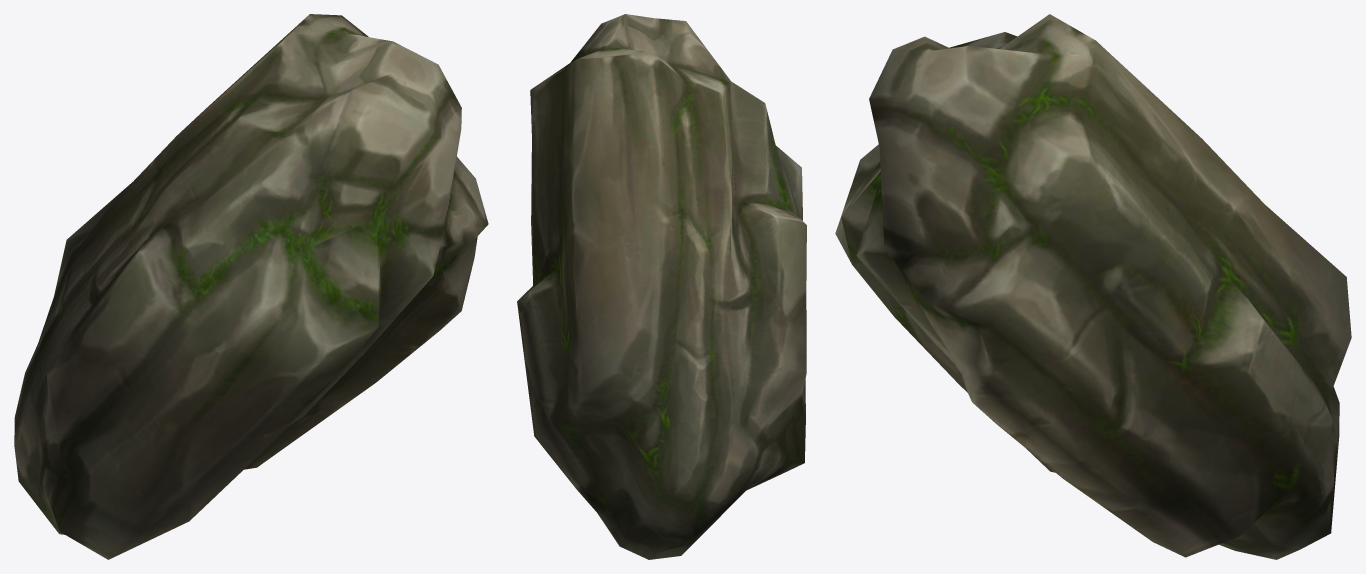
The model's file is RockFormation_4_2 (16).fbx.
The picture shows the model from 3 angles, left to right: view 1: azimuth 30°, elevation 25°; view 2: azimuth 150°, elevation 25°; view 3: azimuth 270°, elevation 25°; orthographic projection. The views are drawn at different scales.
Visible parts, largest first — view 1: RockFormation_4_2 (16); view 2: RockFormation_4_2 (16); view 3: RockFormation_4_2 (16).
Boxes of the visible parts, <box> form: RockFormation_4_2 (16): <box>14,14,488,559</box>; RockFormation_4_2 (16): <box>517,14,806,559</box>; RockFormation_4_2 (16): <box>835,14,1351,559</box>.
Size of the model in its own units: 145 by 196 by 153.
